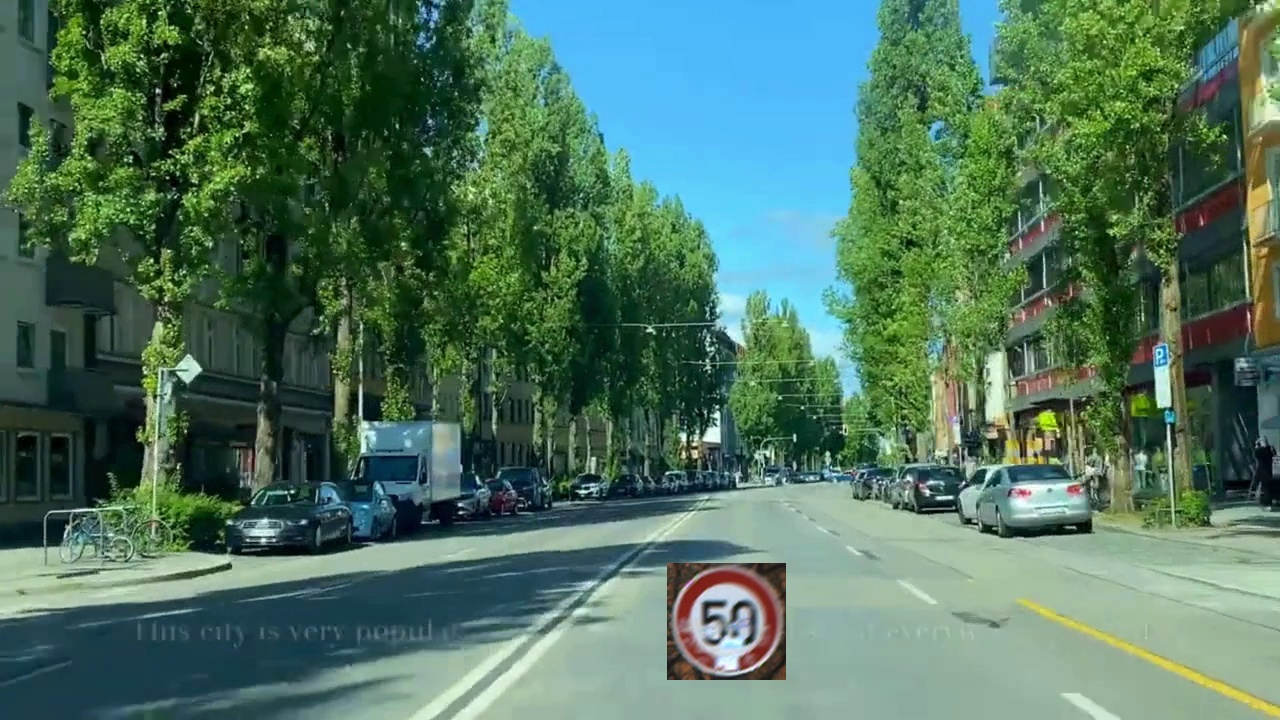Speed 50: (667, 563, 786, 680)
